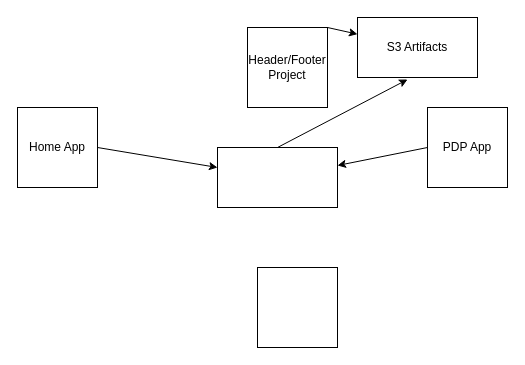
Image size: 525x365. Some labels were removed from this diagram. Each missing label, with the centre of its shape:
"NPM Lib" goes at pixel 297 307.
"Shim Library" goes at pixel 277 177.
